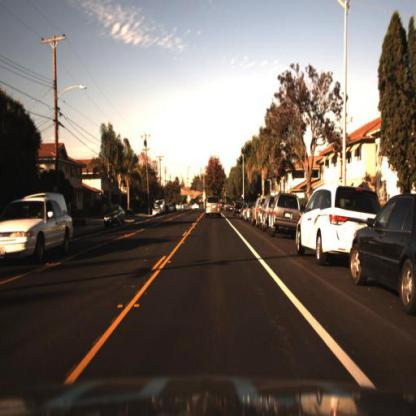car: (350, 194, 416, 319), (295, 183, 381, 258), (1, 197, 77, 271), (289, 178, 349, 271), (271, 188, 304, 235), (269, 191, 298, 243), (102, 202, 129, 230), (102, 204, 127, 230), (206, 193, 224, 224), (261, 194, 273, 231), (252, 193, 265, 227), (149, 205, 163, 221)
